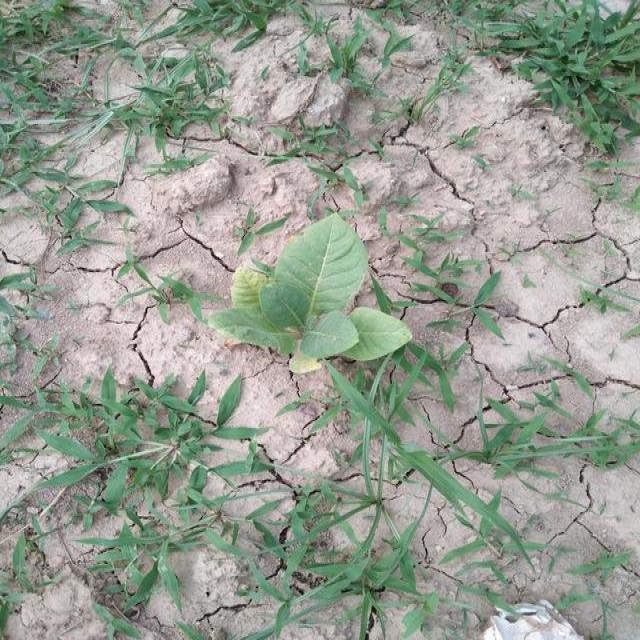crop: (219, 203, 409, 381)
